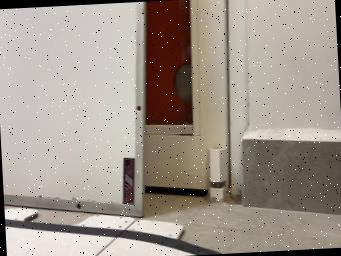street: (5, 219, 222, 256), (5, 219, 222, 256), (5, 219, 222, 256)
